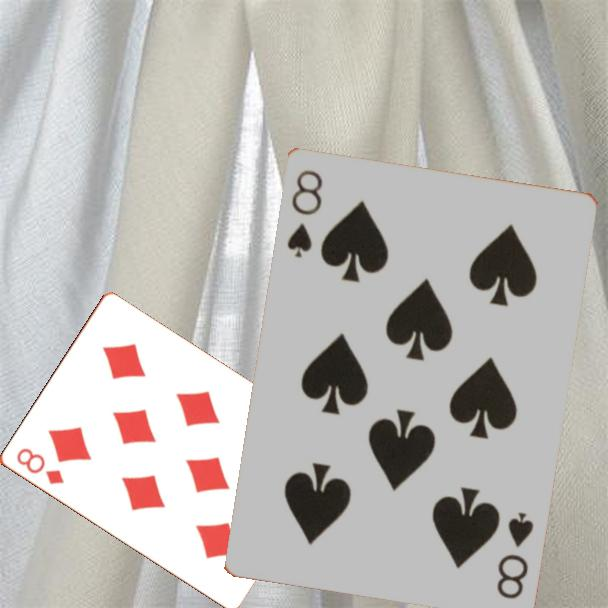d08: (12, 444, 67, 488)
s08: (283, 165, 325, 261), (493, 508, 536, 601)
